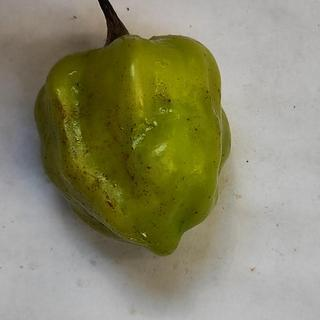Fly-bites: (162, 94, 178, 107), (106, 199, 116, 212), (193, 208, 200, 218), (146, 163, 153, 172)
